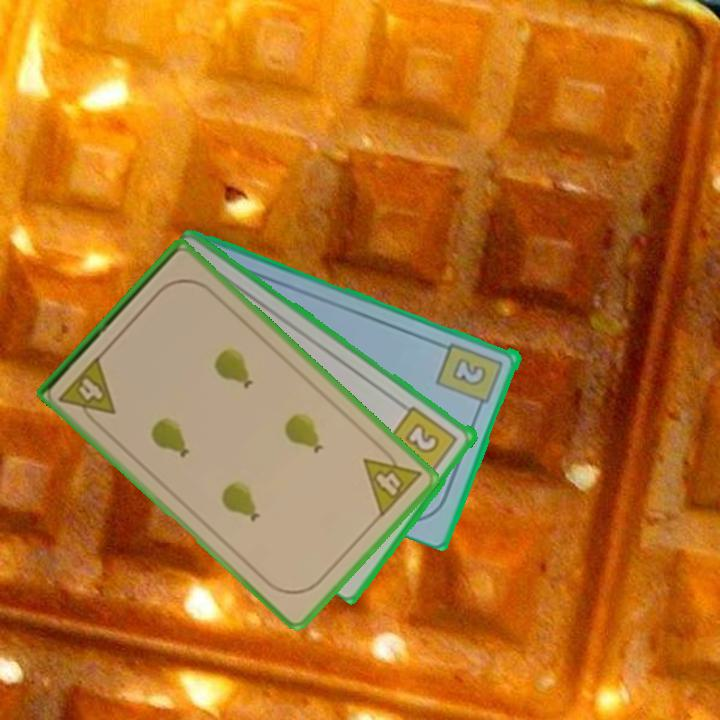2b: (385, 402, 461, 482), (433, 338, 507, 414)
4p: (359, 440, 425, 521), (55, 352, 119, 431)
